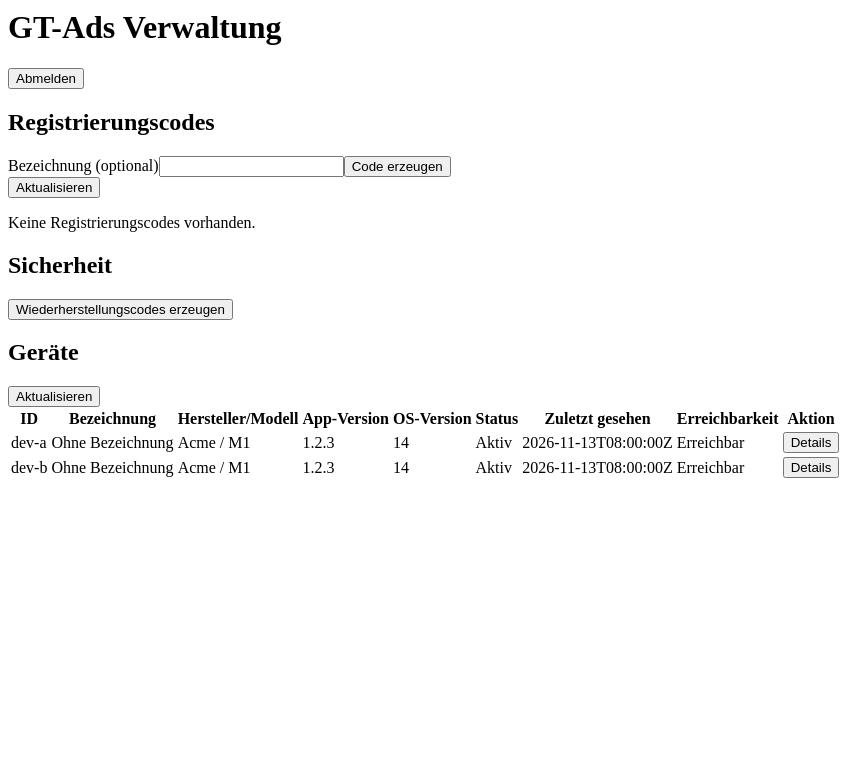
Test: DevicesPanel › lädt das passende Detail und lässt eine verspätete Antwort von A die Ansicht von B nicht überschreiben
This screenshot has width=856, height=775.
Step 1. Click the button with aria-label "Details zu dev-a" → (811, 443), box [783, 432, 839, 453]
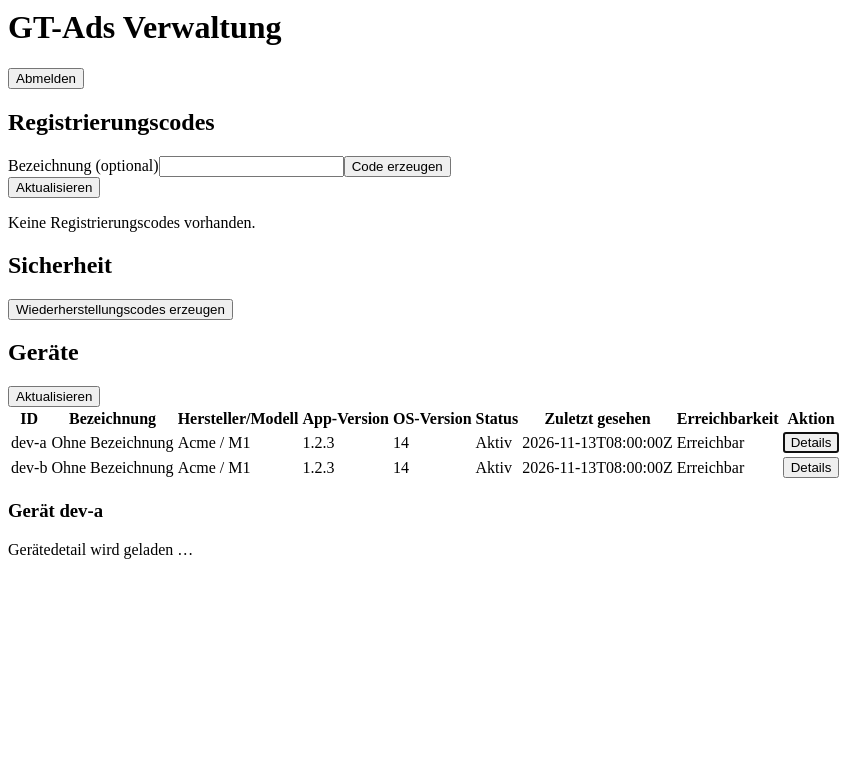
Step 2. Click the button with aria-label "Details zu dev-b" → (811, 468), box [783, 457, 839, 478]
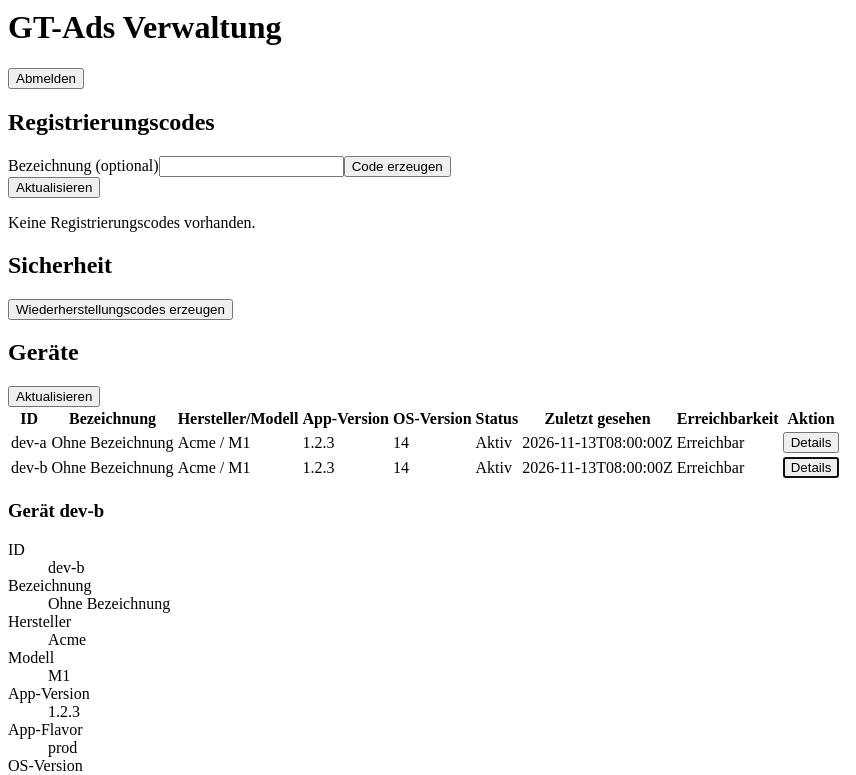
Now the heading "Gerät dev-b" is shown, box [8, 500, 104, 521]
